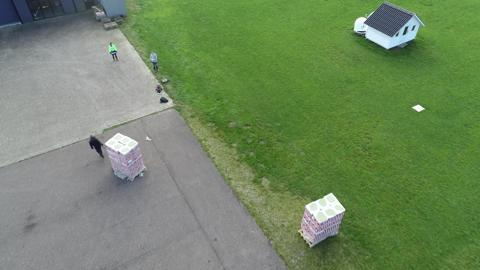RockwoolPallet: (105, 132, 144, 183)
